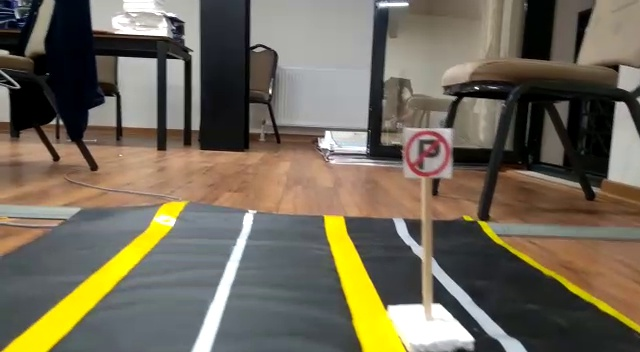park_yapilmaz: (402, 129, 459, 180)
